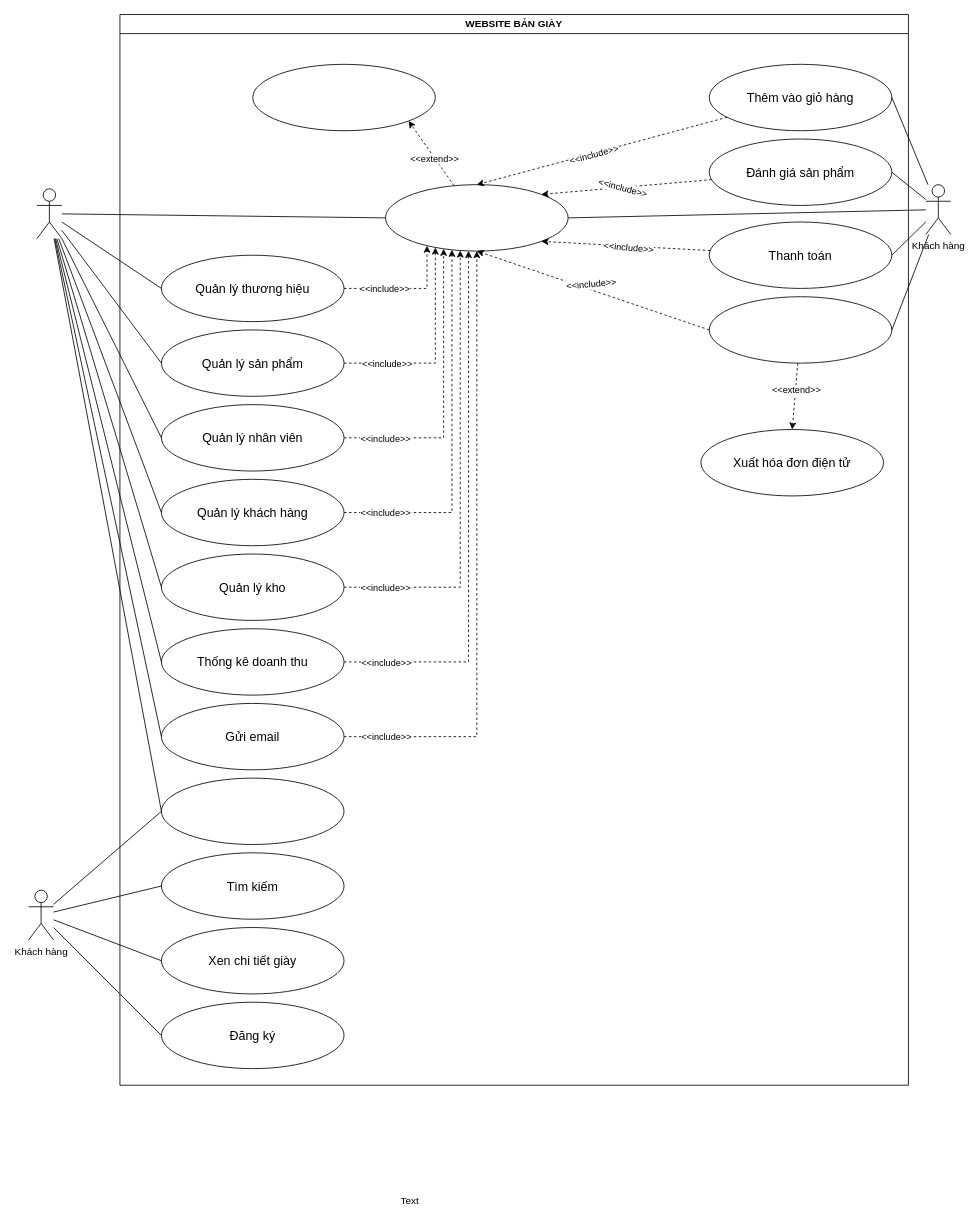
This 979x1228 diagram has some shape labels left out. The shapes that lost their labels are listed below. From the top down, each one's centre as x and y in pixels, then its label:
At (343,97): "Quên mật khẩu".
At (49,213): "Admin".
At (476,217): "Đăng nhập".
At (800,329): "Đặt hàng".
At (252,811): "Đăng xuất".
